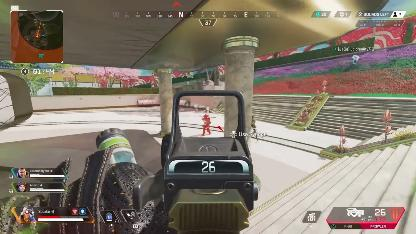Target: (202, 112, 210, 134), (252, 115, 257, 131)
